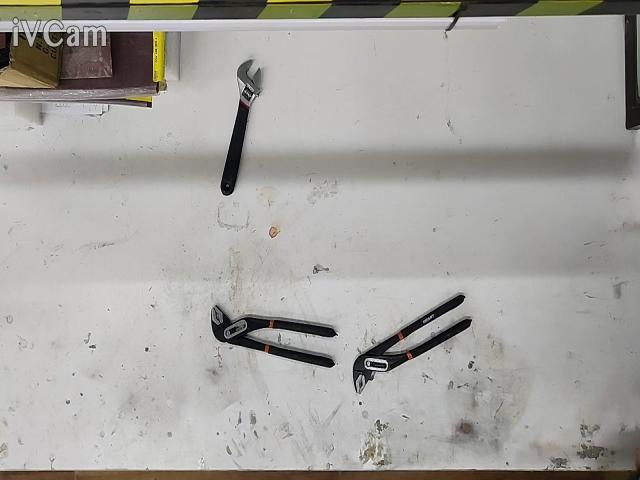Adjustable spanner: (220, 60, 261, 195)
Gas wrench: (352, 293, 471, 394), (211, 305, 336, 366)
